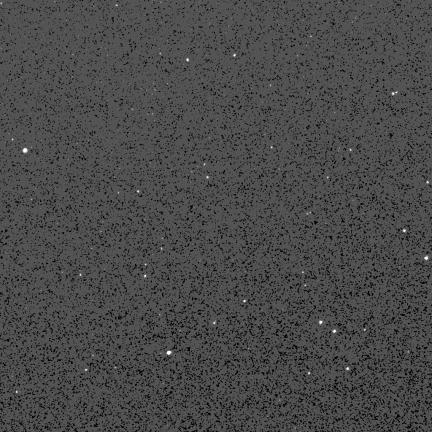blob: (167, 351, 172, 356), (23, 148, 27, 153), (424, 256, 428, 260), (319, 321, 323, 325), (346, 368, 350, 371), (243, 300, 247, 303), (233, 54, 237, 57), (333, 330, 336, 333), (403, 229, 406, 232), (85, 369, 88, 372), (187, 58, 189, 62)
